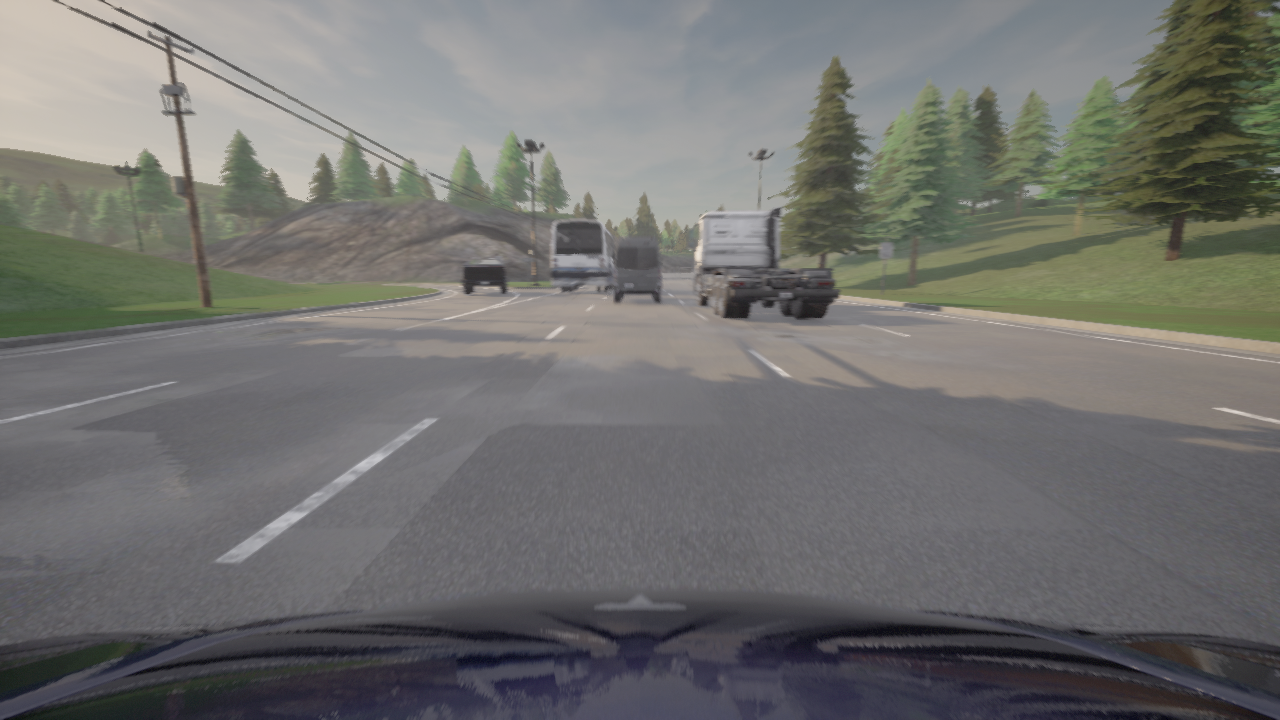cyclist: (0, 588, 1279, 719), (688, 207, 838, 318), (551, 219, 614, 292), (613, 237, 661, 302), (462, 258, 507, 294)
